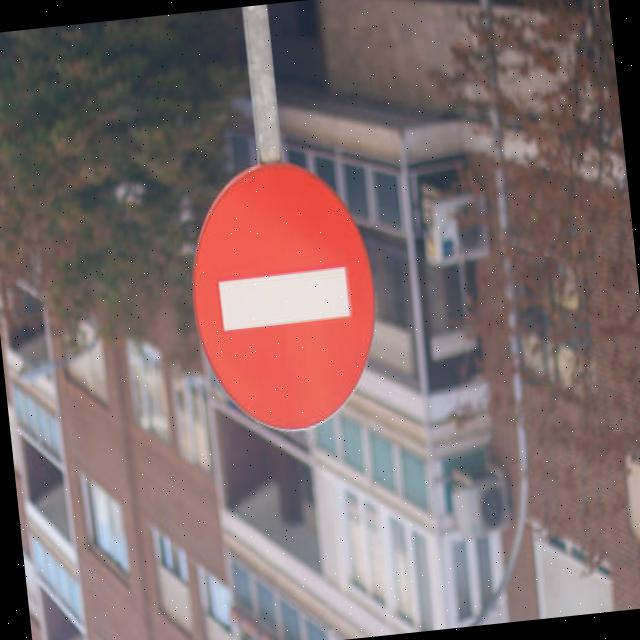do_not_enter: (173, 122, 392, 459)
